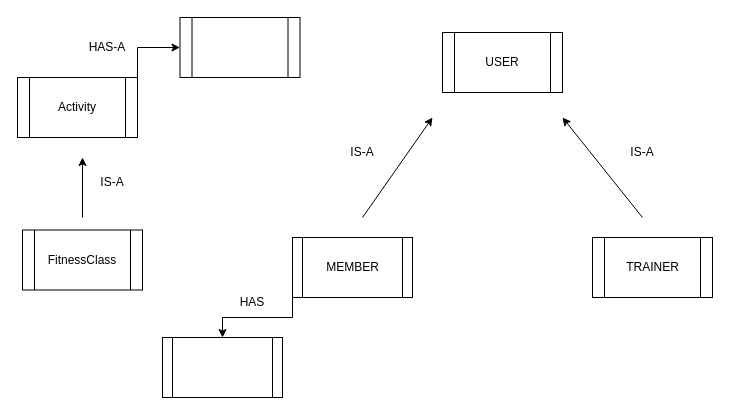
The diagram is 730 pixels wide and 415 high, and some of its shapes have lost their labels. Each missing label, with the box of its shape:
PERSONAL DETAILS: (162, 336, 282, 398)
SCHEDULE: (179, 16, 300, 78)
